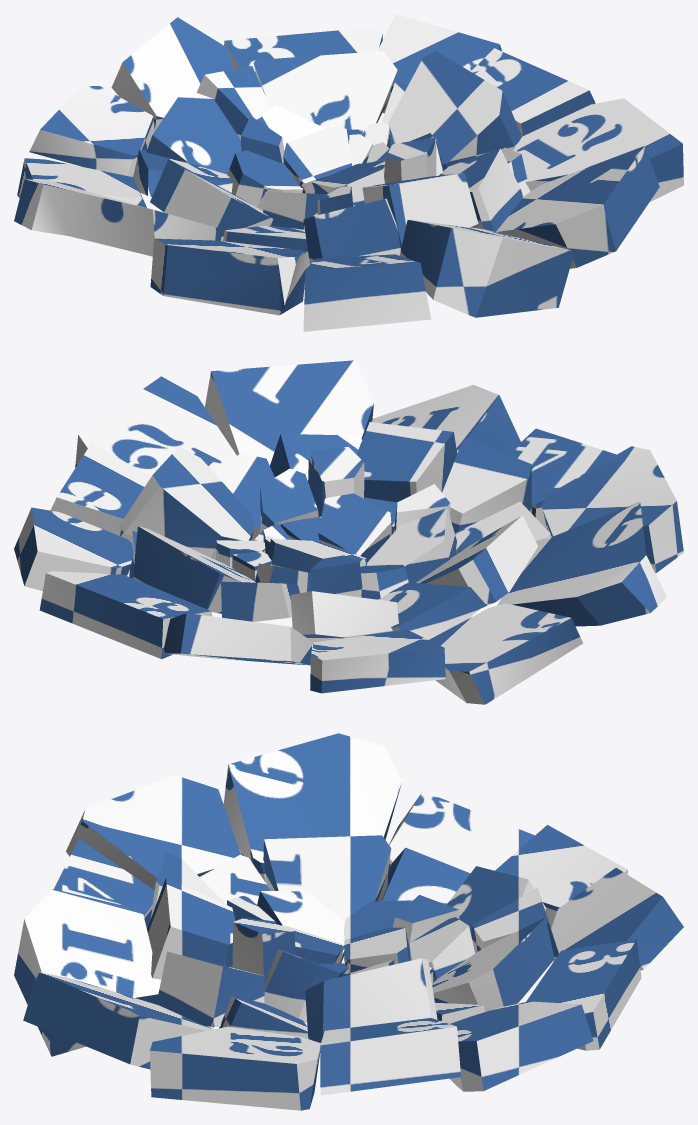
Rendered from Ne_Spl_GroundRock_01.fbx.
The picture shows the model from 3 angles, top to bottom: view 1: azimuth 30°, elevation 25°; view 2: azimuth 150°, elevation 25°; view 3: azimuth 270°, elevation 25°; orthographic projection. The views are drawn at different scales.
Visible parts, largest first — view 1: SM_d_e_P0002_V00_C00_SplBkt_GroundRock_01; view 2: SM_d_e_P0002_V00_C00_SplBkt_GroundRock_01; view 3: SM_d_e_P0002_V00_C00_SplBkt_GroundRock_01.
Part boxes in pixels (x1,y1,x2,y2): SM_d_e_P0002_V00_C00_SplBkt_GroundRock_01: (14, 14, 683, 331); SM_d_e_P0002_V00_C00_SplBkt_GroundRock_01: (14, 360, 683, 704); SM_d_e_P0002_V00_C00_SplBkt_GroundRock_01: (14, 733, 683, 1110).
Bounding box in the file's own units: 102 × 20.28 × 95.76.
